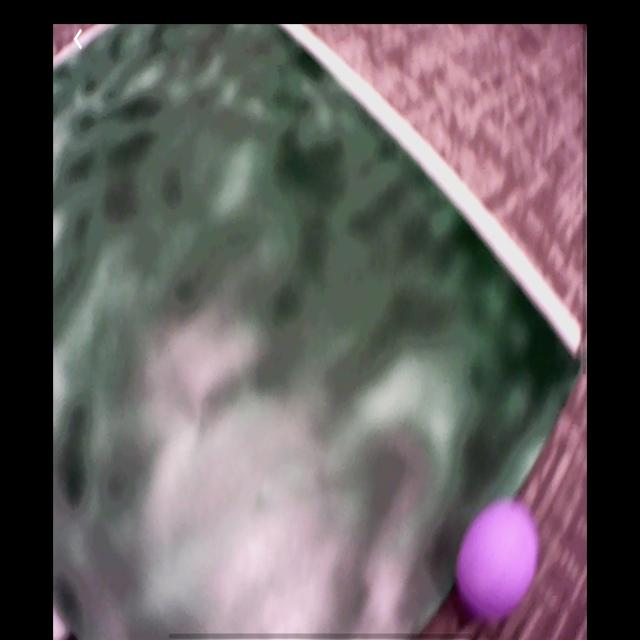ball: (457, 501, 538, 616)
